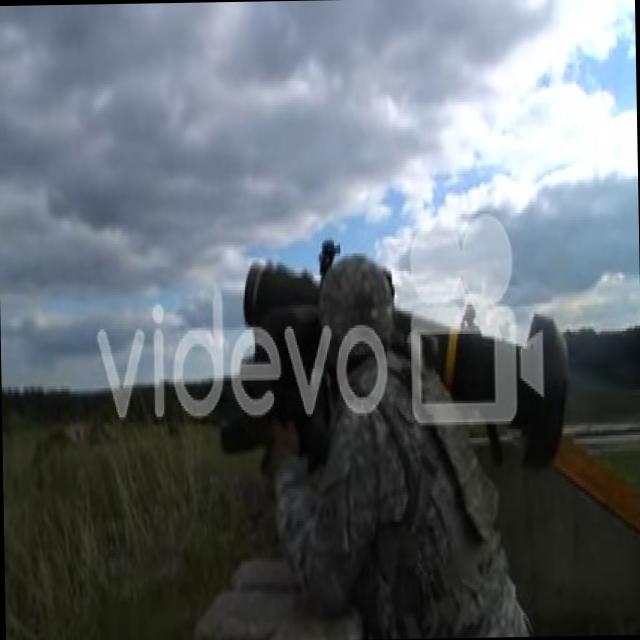rocket: (243, 253, 569, 461)
